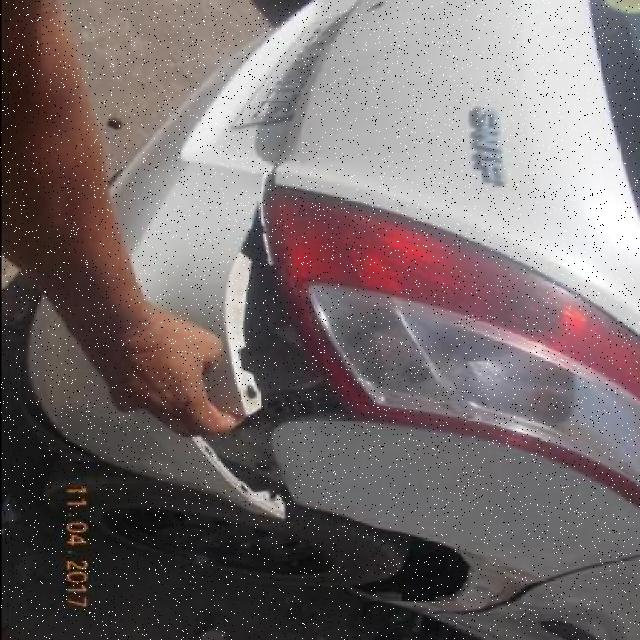damage: (196, 199, 350, 518)
